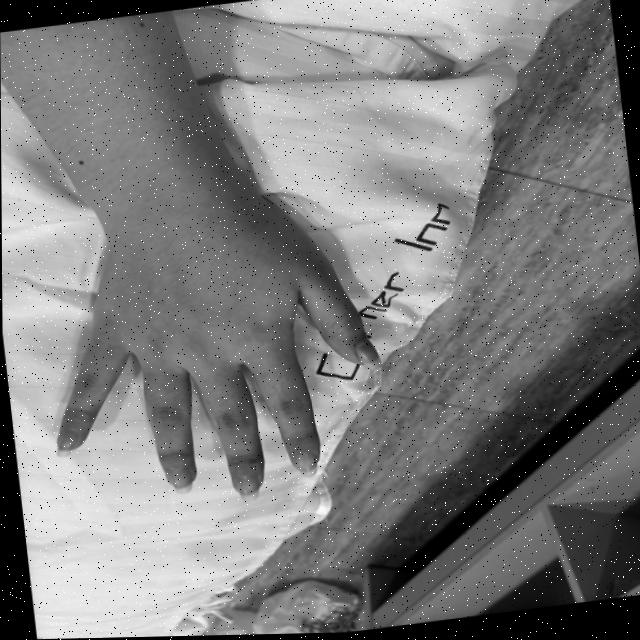hand: (31, 200, 395, 527)
